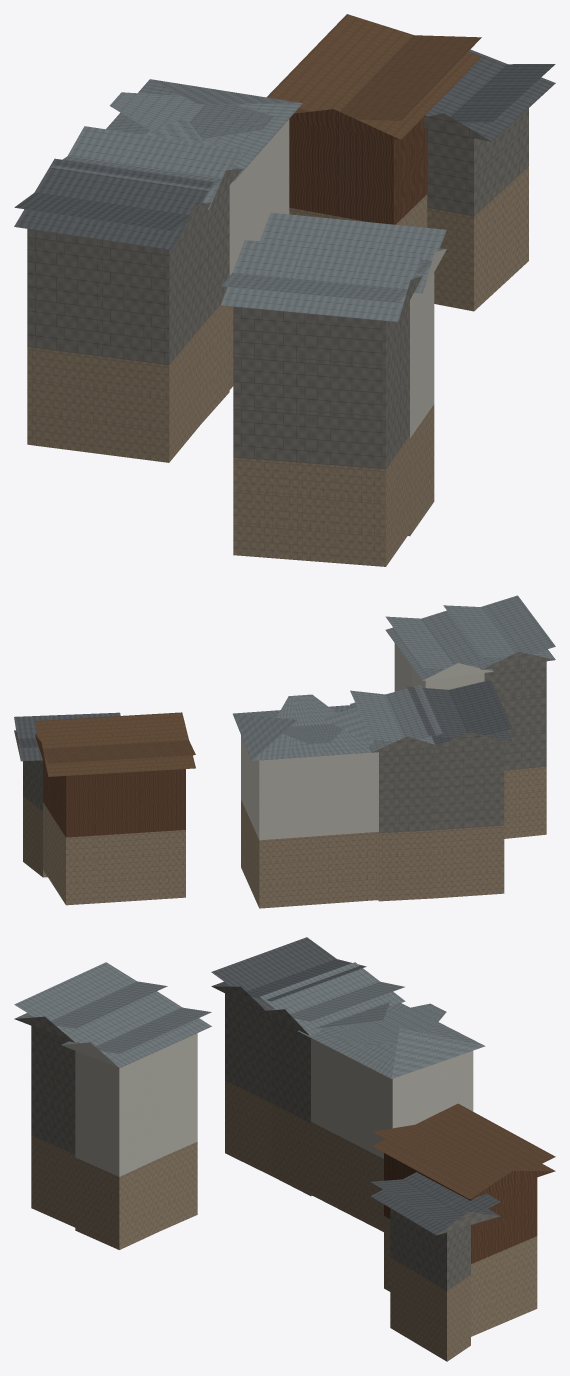
The model's file is bld_c-3_18_536.gltf.
The picture shows the model from 3 angles, top to bottom: view 1: azimuth 30°, elevation 25°; view 2: azimuth 150°, elevation 25°; view 3: azimuth 270°, elevation 25°; orthographic projection. The views are drawn at different scales.
Visible parts, largest first — view 1: bld_c-3_18_536; view 2: bld_c-3_18_536; view 3: bld_c-3_18_536.
Boxes of the visible parts, x1,y1,x2,y2 form: bld_c-3_18_536: (14,14,555,566); bld_c-3_18_536: (14,595,555,908); bld_c-3_18_536: (14,937,555,1361).
Size of the model in its own units: 34.29 by 14.4 by 34.21.
10 materials, 10 textured.
